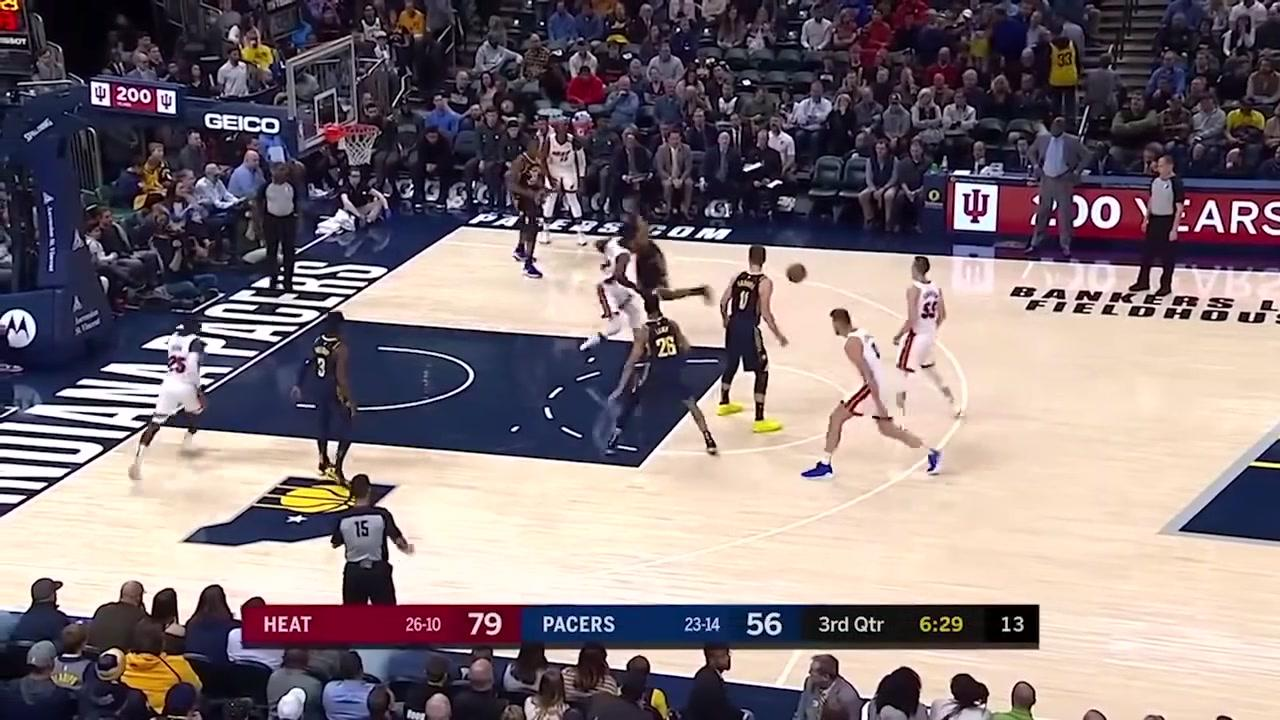foul: (565, 202, 706, 349)
